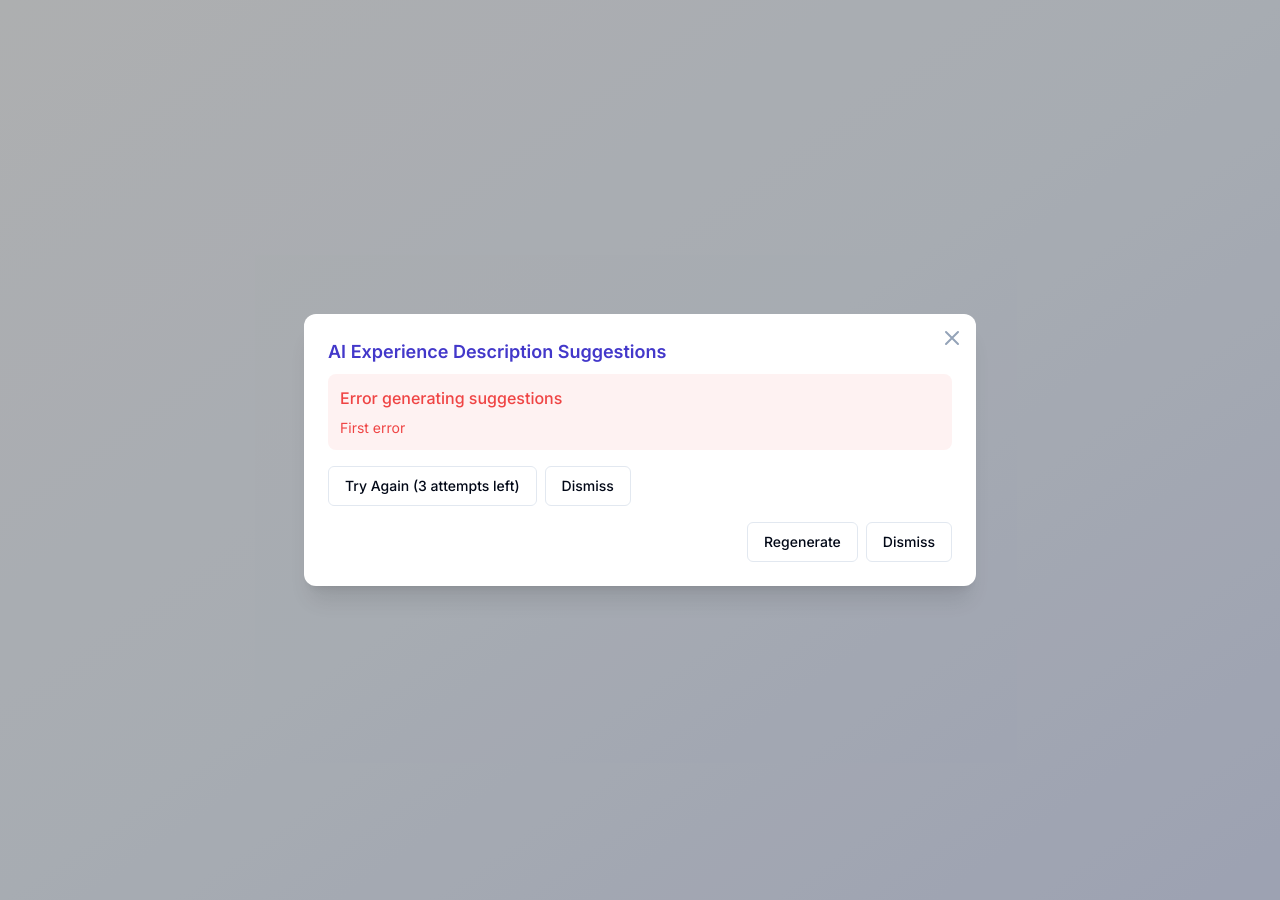
Test case: AISuggestionModal › Error Handling › should handle retry attempts correctly
The image size is (1280, 900).
// Click retry
Click the button "Try Again (3 attempts left)" at [432, 486], box x1=328 y1=466 x2=537 y2=506
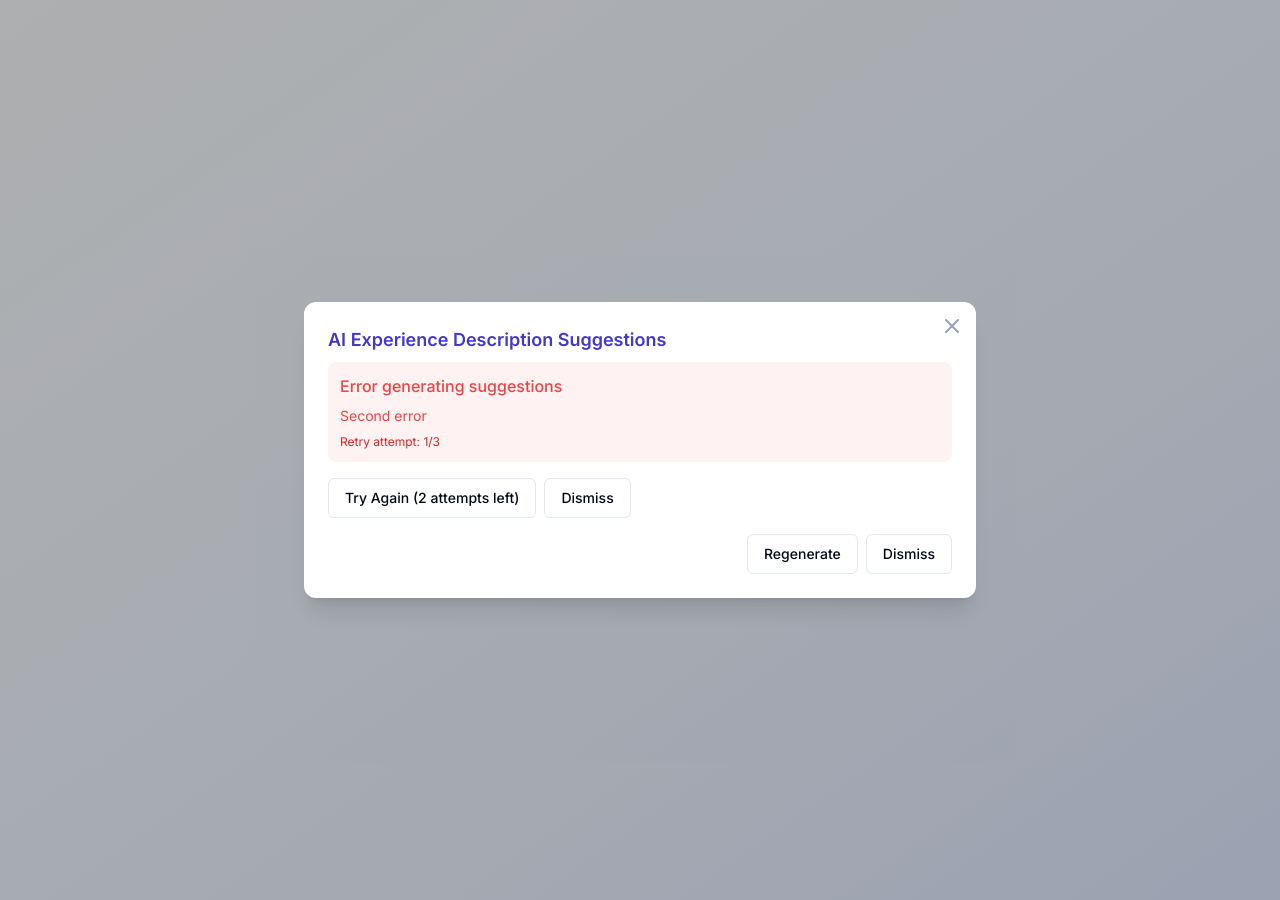
Expected: the button "Try Again (2 attempts left)" is shown
// Click retry again
Click the button "Try Again (2 attempts left)" at [432, 498], box x1=328 y1=478 x2=536 y2=518
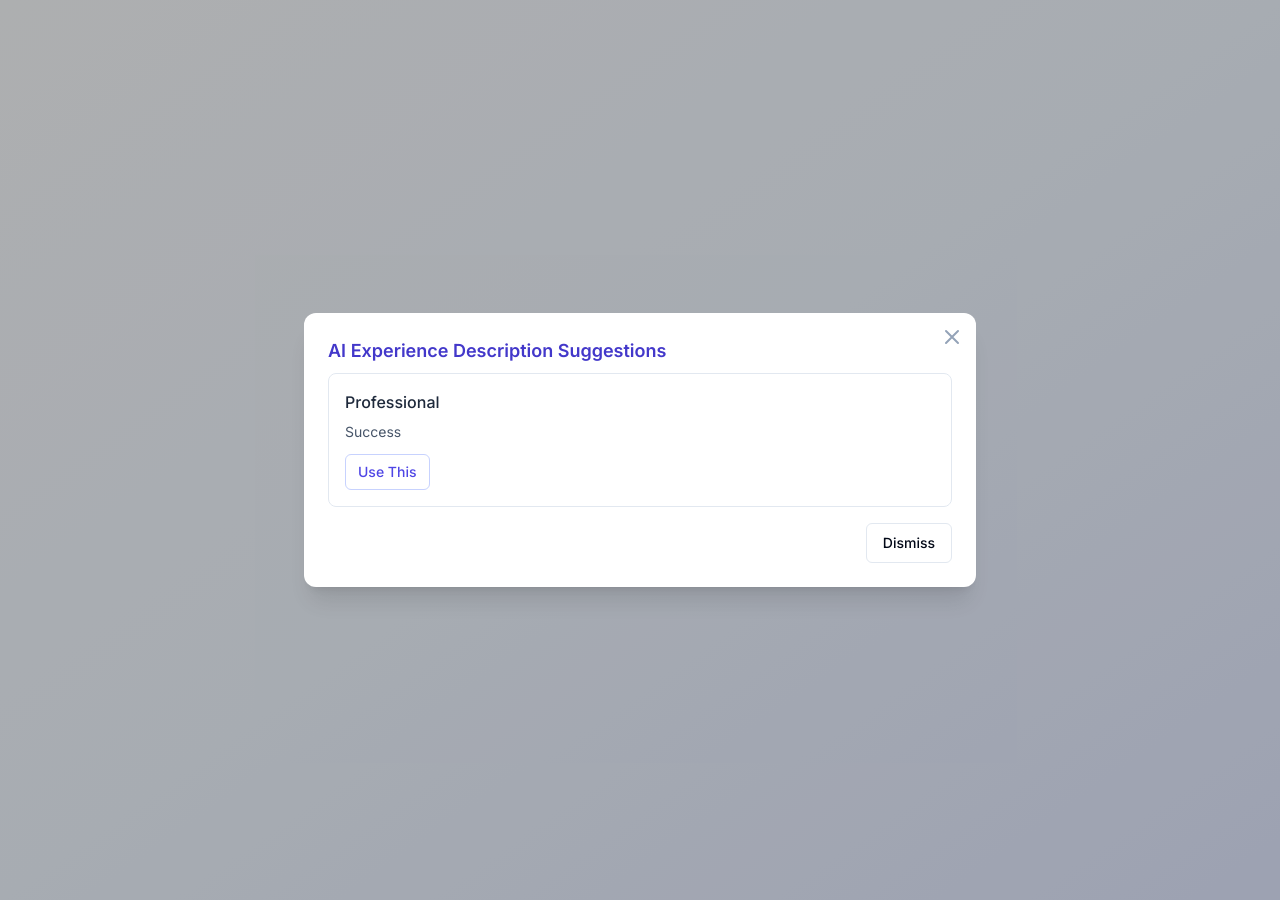
Expected: the heading "professional" is shown, x1=345 y1=392 x2=440 y2=412
